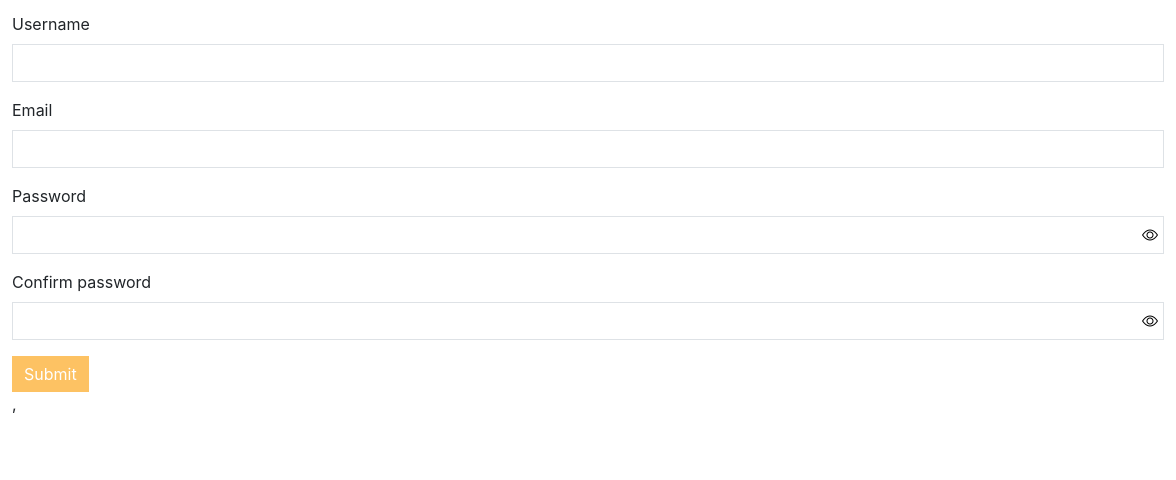
Test: Register Form › should display an error message for a username less than 2 characters long
The width and height of the screenshot is (1176, 480).
Type "a" into the field labelled "Username" at (588, 63), box [12,44,1164,82]
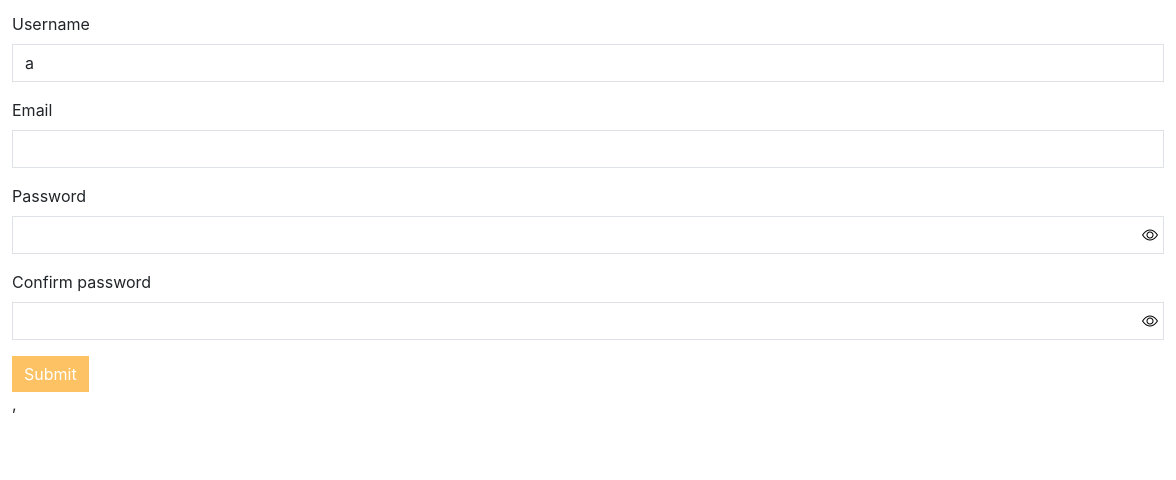
Type "a@a.pl" into the field labelled "Email" at (588, 149), box [12,130,1164,168]
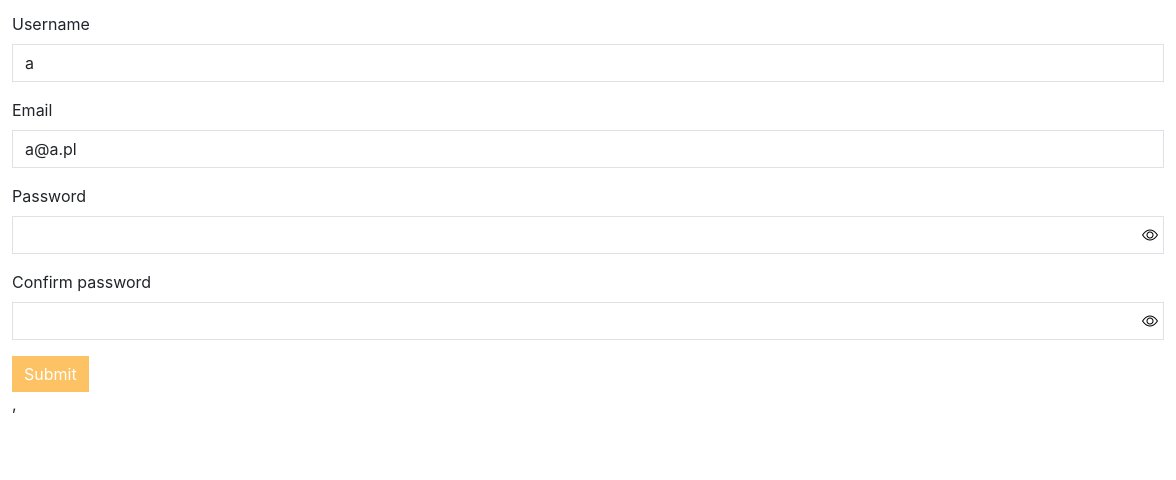
Type "Pa$$w0rd" into the password field labelled "Password" at (588, 235), box [12,216,1164,254]
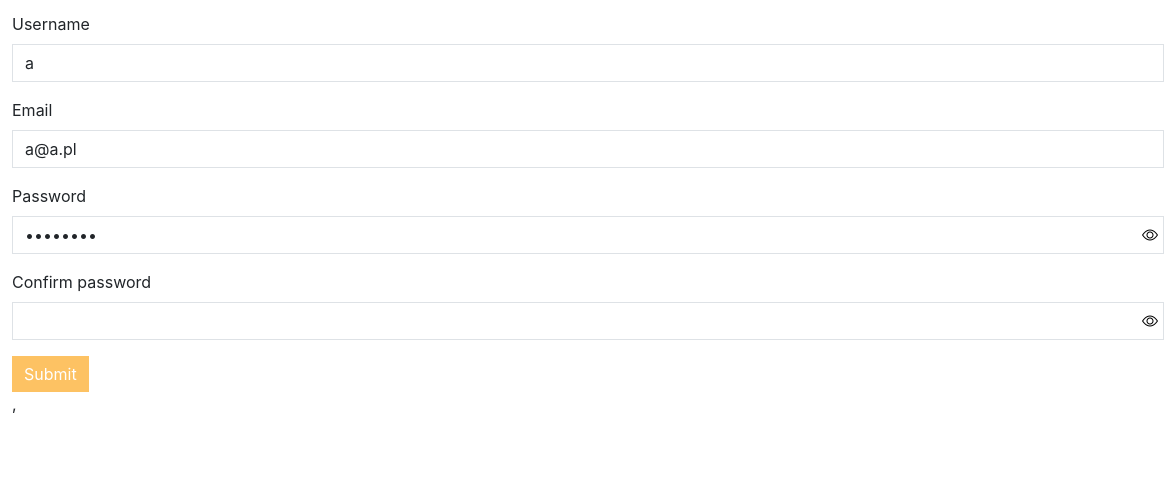
Type "Pa$$w0rd" into the password field labelled "Confirm password" at (588, 321), box [12,302,1164,340]
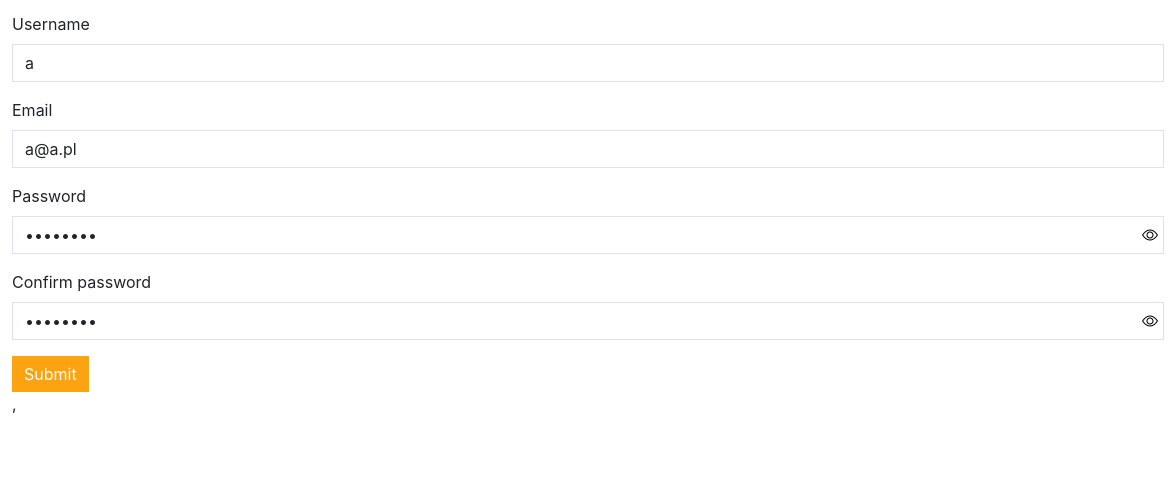
Click the button "Submit" at (50, 374), box [12,356,89,392]
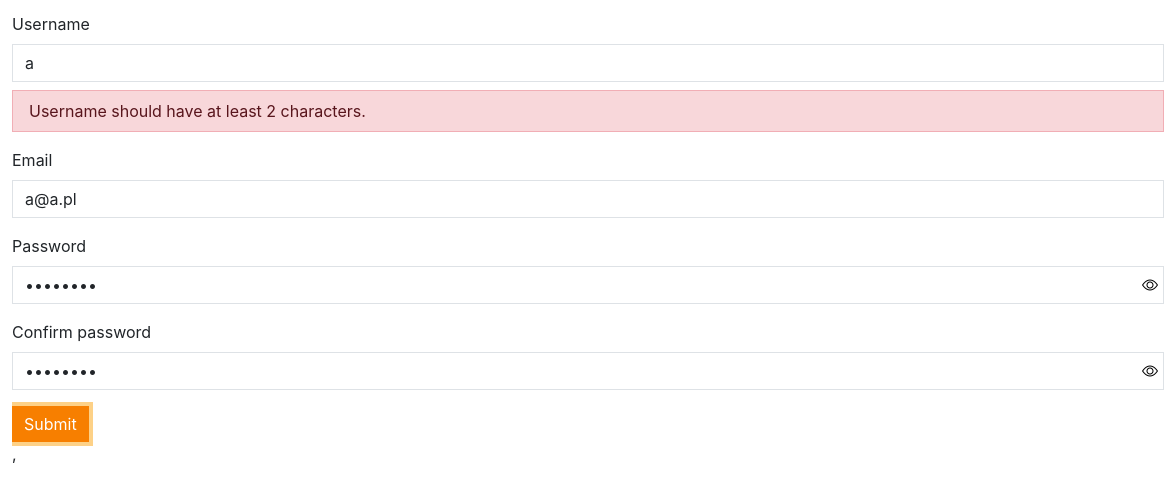
Result: the text "Username should have at least 2 characters." is shown at [12,90,1164,132]
